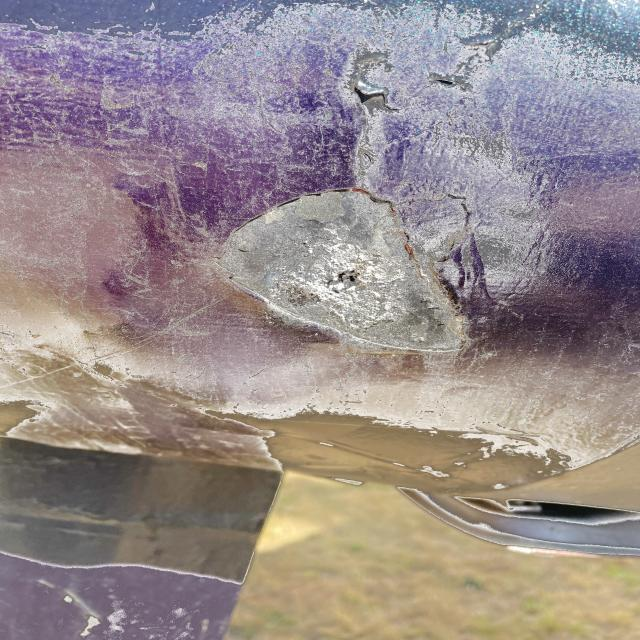crack: (341, 75, 411, 124), (430, 77, 475, 94)
dent: (207, 179, 502, 363)
